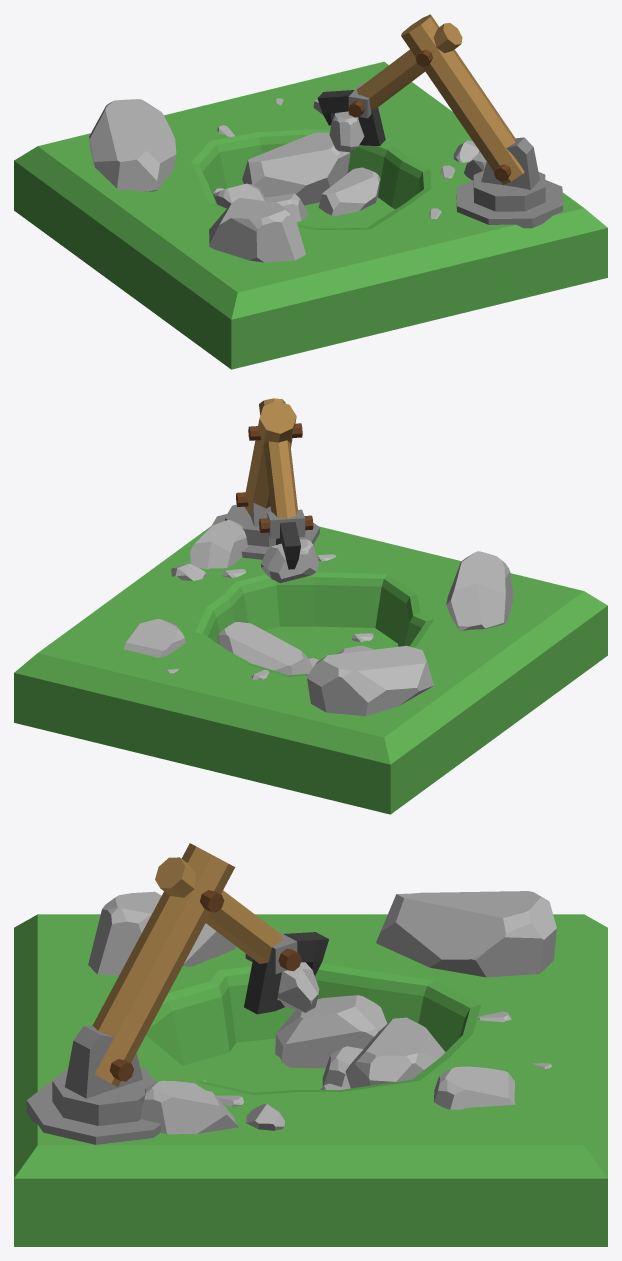
Rendered from StoneMineTile.fbx.
3 views of the same model, one above another, from view 1: azimuth 30°, elevation 25°; view 2: azimuth 150°, elevation 25°; view 3: azimuth 270°, elevation 25° (orthographic). The views are drawn at different scales.
Visible parts, largest first — view 1: Cube, Icosphere.004, Cylinder.002, Icosphere.009, Icosphere.007, Cylinder, Cylinder.003, Icosphere.001, Cube.002, Cylinder.001, Icosphere.008, Icosphere.014 (+1 smaller); view 2: Cube, Icosphere.004, Icosphere.007, Icosphere.009, Cylinder.002, Cylinder.003, Icosphere.006, Icosphere.005, Icosphere.008, Cylinder, Cube.002, Cube.001; view 3: Cube, Icosphere.004, Cylinder.002, Cylinder, Icosphere.014, Icosphere.007, Icosphere.009, Cylinder.003, Icosphere.006, Icosphere.005, Cylinder.001, Cube.002 (+4 smaller).
Boxes of the visible parts, x1,y1,x2,y2 form: Cube: (14, 61, 607, 369); Icosphere.004: (89, 99, 176, 191); Cylinder.002: (401, 14, 524, 184); Icosphere.009: (242, 132, 350, 205); Icosphere.007: (209, 198, 305, 262); Cylinder: (456, 170, 562, 228); Cylinder.003: (356, 23, 462, 109); Icosphere.001: (318, 167, 380, 216); Cube.002: (317, 90, 385, 145); Cylinder.001: (481, 137, 539, 189); Icosphere.008: (329, 111, 364, 151); Icosphere.014: (213, 183, 266, 208); Cube: (14, 526, 607, 814); Icosphere.004: (307, 645, 433, 716); Icosphere.007: (446, 551, 513, 631); Icosphere.009: (217, 622, 313, 675); Cylinder.002: (244, 401, 296, 516); Cylinder.003: (259, 398, 297, 518); Icosphere.006: (190, 520, 247, 569); Icosphere.005: (124, 619, 185, 657); Icosphere.008: (260, 539, 318, 583); Cylinder: (211, 504, 319, 559); Cube.002: (276, 522, 300, 569); Cube.001: (267, 509, 305, 538); Cube: (14, 914, 607, 1246); Icosphere.004: (376, 891, 556, 977); Cylinder.002: (92, 843, 235, 1086); Cylinder: (26, 1067, 161, 1144); Icosphere.014: (275, 995, 387, 1068); Icosphere.007: (88, 891, 235, 975); Icosphere.009: (345, 1017, 445, 1088); Cylinder.003: (155, 857, 282, 963); Icosphere.006: (141, 1080, 239, 1134); Icosphere.005: (434, 1066, 515, 1109); Cylinder.001: (65, 1026, 142, 1098); Cube.002: (244, 932, 328, 1014).
Bounding box in the file's own units: 600 × 364 × 600.
